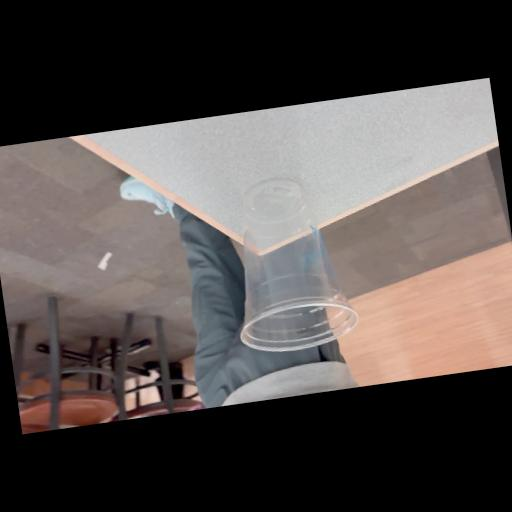lp_plastic_cup: (199, 160, 365, 363)
